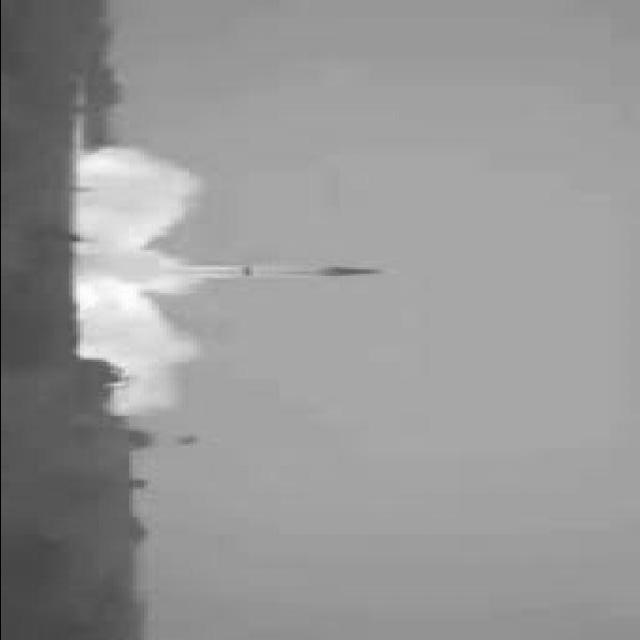Missile: (174, 263, 385, 277)
